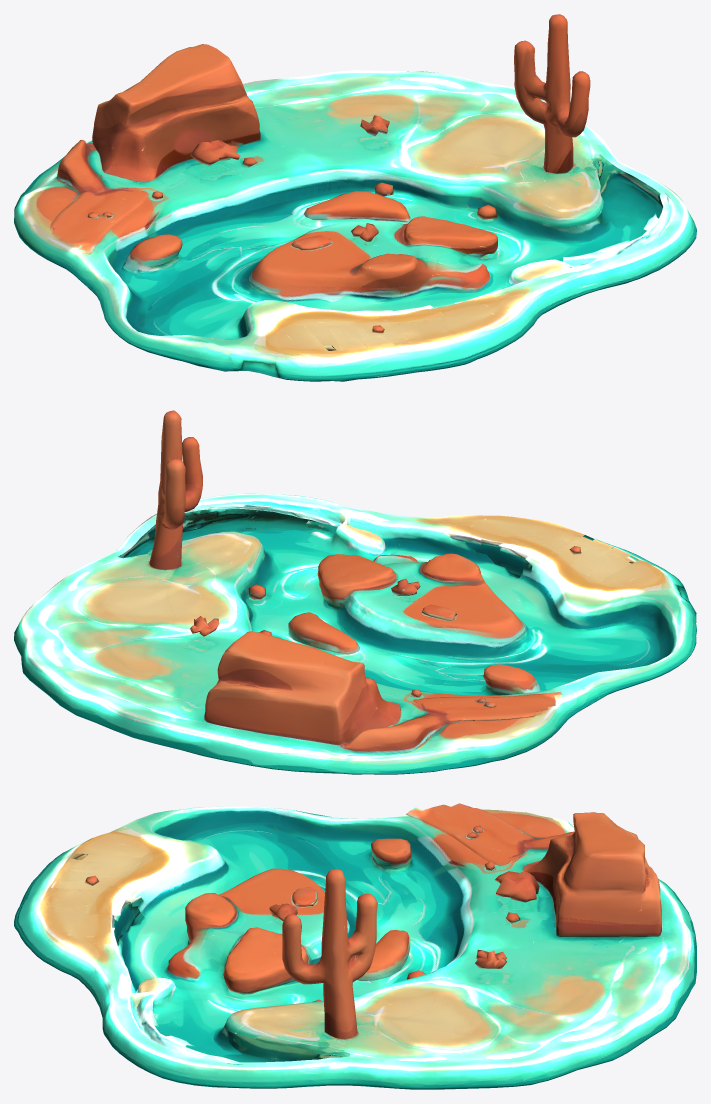
The model's file is salt_river_creek_bend_v2.glb.
3 renders of one model, top to bottom at view 1: azimuth 30°, elevation 25°; view 2: azimuth 150°, elevation 25°; view 3: azimuth 270°, elevation 25°, orthographic. The views are drawn at different scales.
Size of the model in its own units: 1.85 by 0.5832 by 1.9.
Materials: 1 (1 with a texture image).
